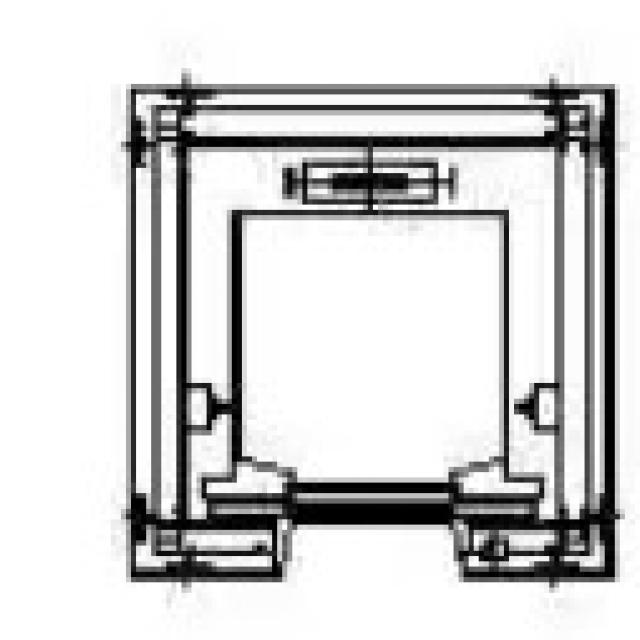lift: (116, 79, 615, 582)
